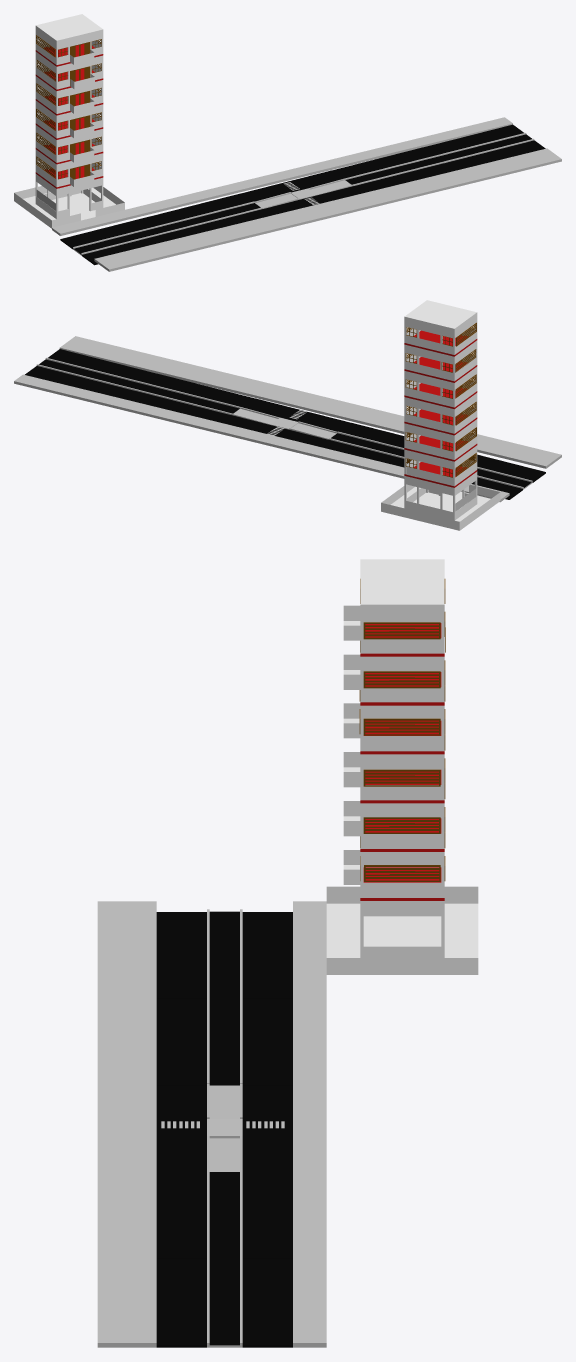
File: building type blacony wind.fbx
3 renders of one model, top to bottom at view 1: azimuth 30°, elevation 25°; view 2: azimuth 150°, elevation 25°; view 3: azimuth 270°, elevation 25°, orthographic. The views are drawn at different scales.
Parts seen in each view (by area): view 1: cross__1, BUILDING_TYPE_X; view 2: cross__1, BUILDING_TYPE_X; view 3: cross__1, BUILDING_TYPE_X.
Part boxes in pixels (left/top/right/bottom): cross__1: left=36, top=117, right=561, bottom=271; BUILDING_TYPE_X: left=14, top=14, right=124, bottom=228; cross__1: left=14, top=336, right=561, bottom=511; BUILDING_TYPE_X: left=381, top=300, right=500, bottom=530; cross__1: left=97, top=901, right=326, bottom=1347; BUILDING_TYPE_X: left=326, top=559, right=478, bottom=974.
Size of the model in its own units: 6207 by 2410 by 2260.
